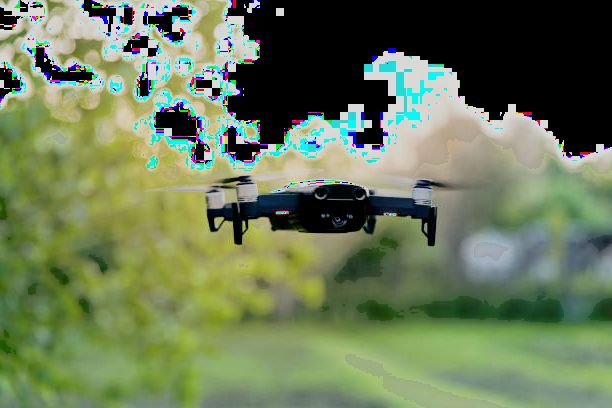Drone: (133, 170, 489, 253)
